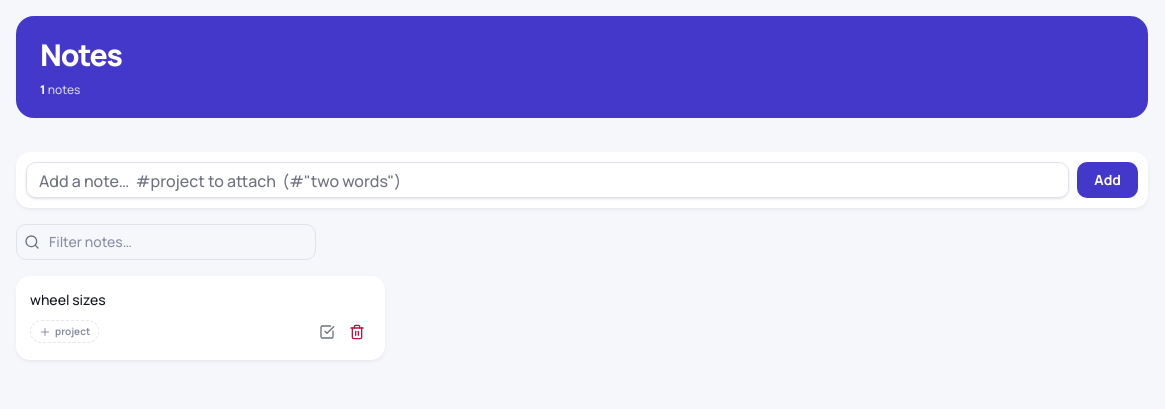
it: editing a note's text › saves an edited body
Click the button "wheel sizes": (68, 299) [30, 290, 371, 310]
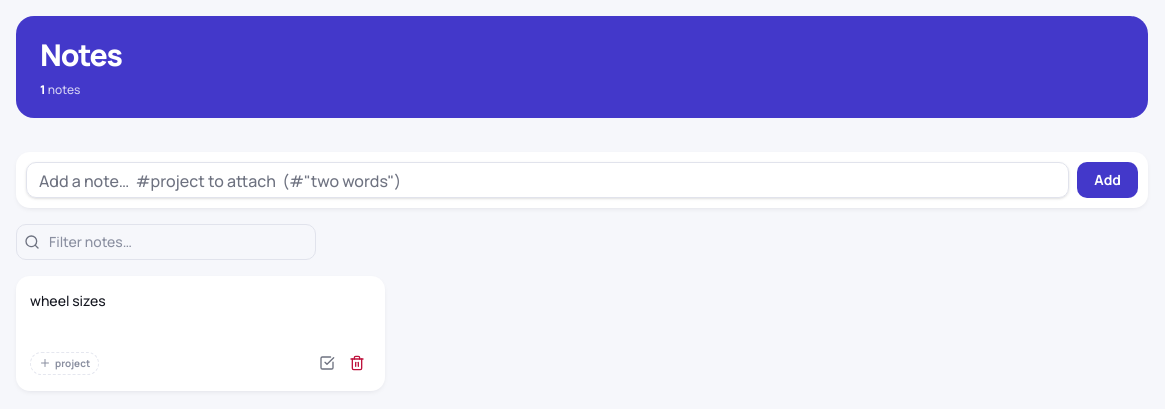
Replace the text in the text box named "Note text" with "wheel sizes: 205/55 R16": (201, 312) [30, 290, 371, 335]
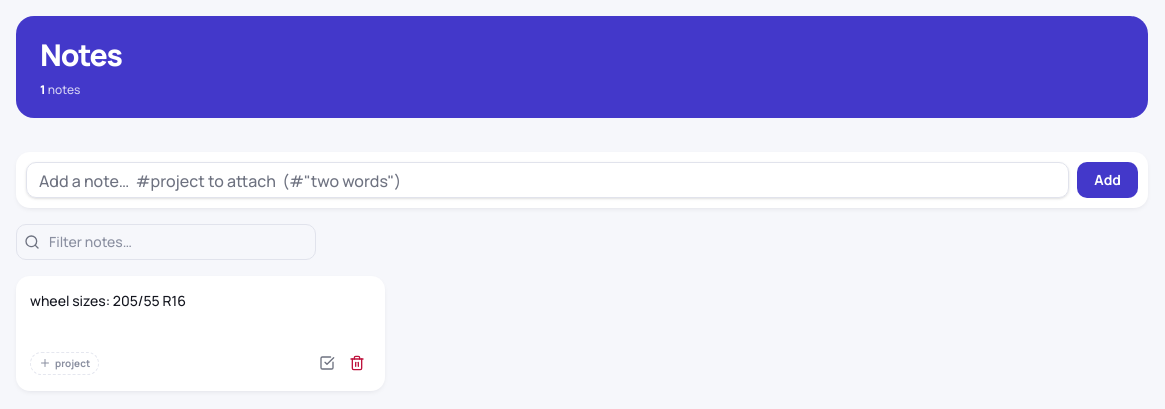
Press Tab
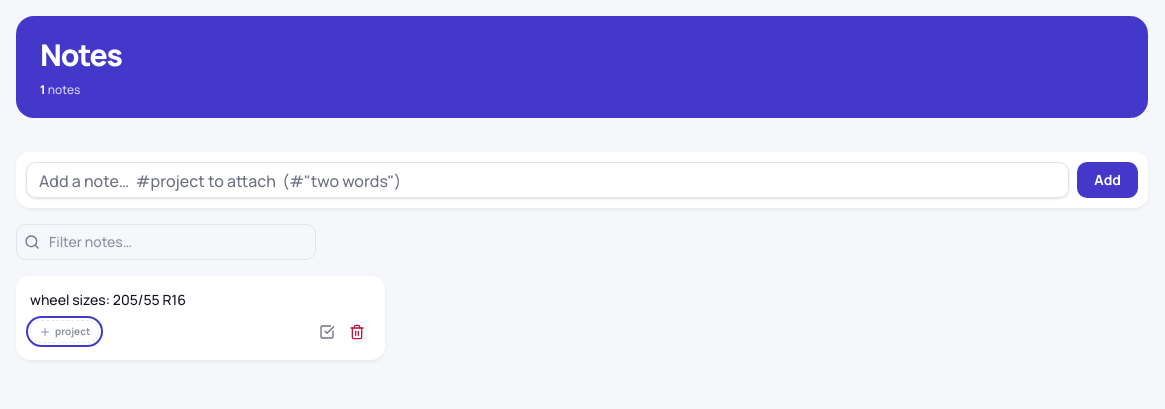
Expected: the text "wheel sizes: 205/55 R16" is shown, [30, 290, 186, 308]
